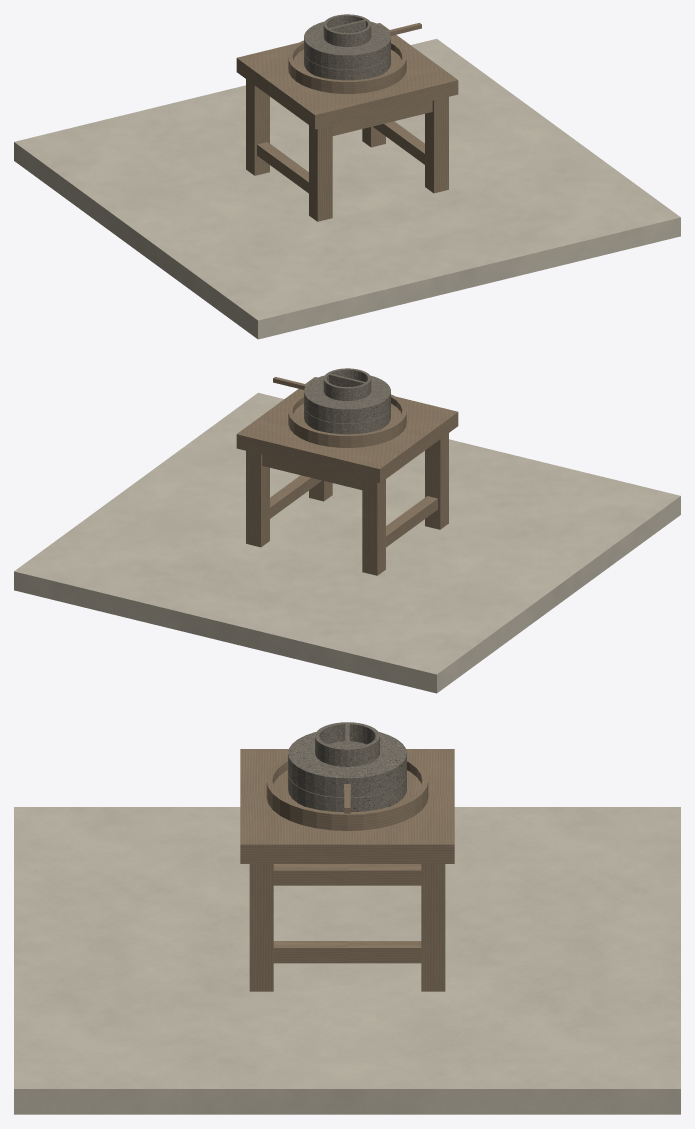
File: hand-mill-A-LOD1.glb
3 views of the same model, one above another, from view 1: azimuth 30°, elevation 25°; view 2: azimuth 150°, elevation 25°; view 3: azimuth 270°, elevation 25° (orthographic). The views are drawn at different scales.
Visible parts, largest first — view 1: A_presentation_ground, A_wood_bed_C, A_upper_stone_C, A_stand_post_C, A_stand_post_C.002, A_stand_post_C.001, A_collection_lip_C, A_stand_apron_C, A_feed_ring_C, A_collection_floor_C, A_stand_cross_tie_C, A_lower_stone_C (+1 smaller); view 2: A_presentation_ground, A_wood_bed_C, A_upper_stone_C, A_stand_post_C.001, A_stand_post_C.003, A_stand_post_C, A_collection_lip_C, A_stand_apron_C.001, A_feed_ring_C, A_collection_floor_C, A_stand_cross_tie_C, A_lower_stone_C (+1 smaller); view 3: A_presentation_ground, A_wood_bed_C, A_upper_stone_C, A_stand_cross_tie_C.001, A_stand_cross_tie_C, A_stand_post_C.002, A_stand_post_C.003, A_collection_lip_C, A_feed_ring_C, A_collection_floor_C, A_lower_stone_C.
Boxes of the visible parts, x1,y1,x2,y2 form: A_presentation_ground: [14, 38, 680, 339]; A_wood_bed_C: [236, 23, 458, 129]; A_upper_stone_C: [304, 21, 390, 69]; A_stand_post_C: [309, 125, 332, 221]; A_stand_post_C.002: [425, 97, 448, 193]; A_stand_post_C.001: [246, 79, 269, 175]; A_collection_lip_C: [288, 40, 406, 88]; A_stand_apron_C: [332, 101, 432, 135]; A_feed_ring_C: [323, 14, 371, 46]; A_collection_floor_C: [288, 49, 406, 93]; A_stand_cross_tie_C: [257, 142, 308, 193]; A_lower_stone_C: [304, 52, 390, 80]; A_presentation_ground: [14, 392, 680, 693]; A_wood_bed_C: [236, 377, 458, 483]; A_upper_stone_C: [304, 375, 390, 423]; A_stand_post_C.001: [362, 479, 385, 575]; A_stand_post_C.003: [246, 451, 269, 547]; A_stand_post_C: [425, 433, 448, 529]; A_collection_lip_C: [288, 394, 406, 442]; A_stand_apron_C.001: [262, 455, 362, 489]; A_feed_ring_C: [323, 368, 371, 400]; A_collection_floor_C: [288, 403, 406, 447]; A_stand_cross_tie_C: [386, 496, 437, 547]; A_lower_stone_C: [304, 406, 390, 434]; A_presentation_ground: [14, 807, 680, 1114]; A_wood_bed_C: [240, 749, 454, 863]; A_upper_stone_C: [288, 732, 406, 797]; A_stand_cross_tie_C.001: [273, 941, 421, 963]; A_stand_cross_tie_C: [273, 864, 421, 885]; A_stand_post_C.002: [249, 864, 273, 991]; A_stand_post_C.003: [421, 864, 445, 991]; A_collection_lip_C: [266, 757, 428, 823]; A_feed_ring_C: [315, 722, 379, 766]; A_collection_floor_C: [266, 770, 428, 830]; A_lower_stone_C: [288, 774, 406, 812].
Bounding box in the file's own units: 2.8 × 1.1 × 2.8.
3 materials, 3 textured.
